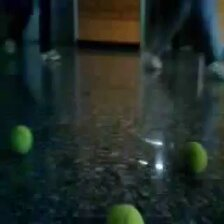tennis: (100, 203, 144, 224), (182, 142, 207, 175), (9, 126, 34, 153)
